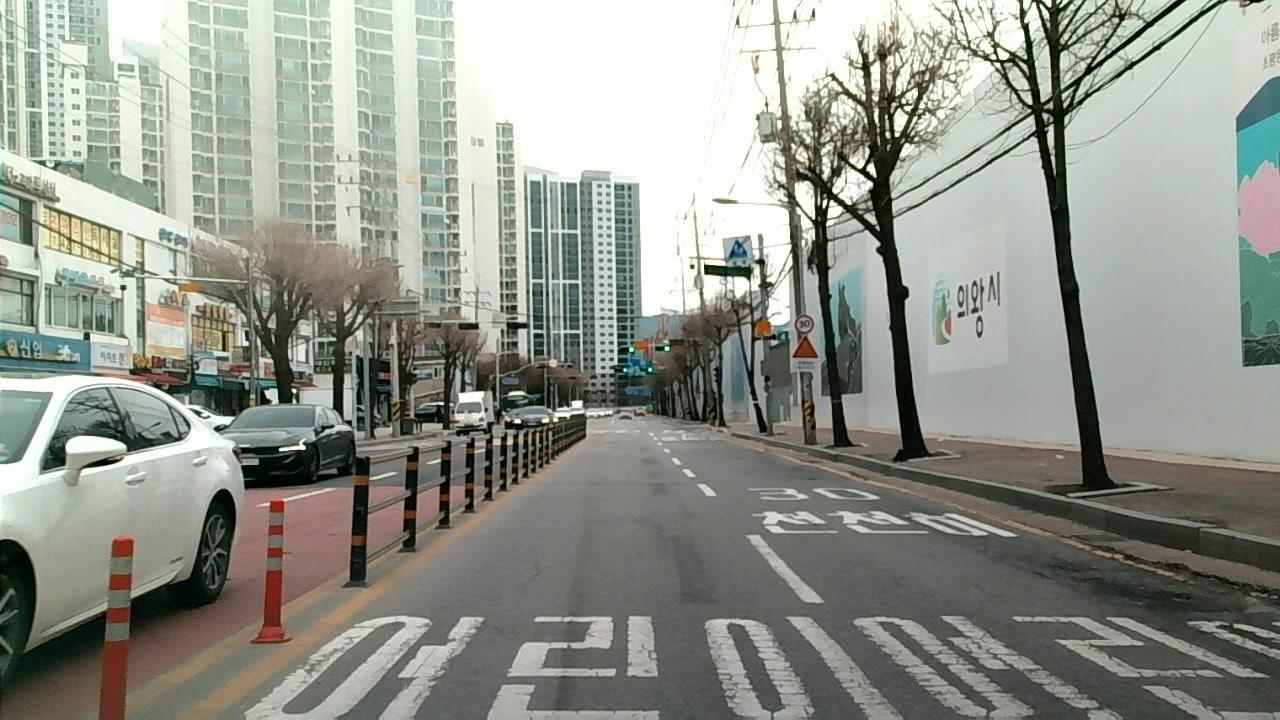vcrack: (1079, 531, 1277, 600)
